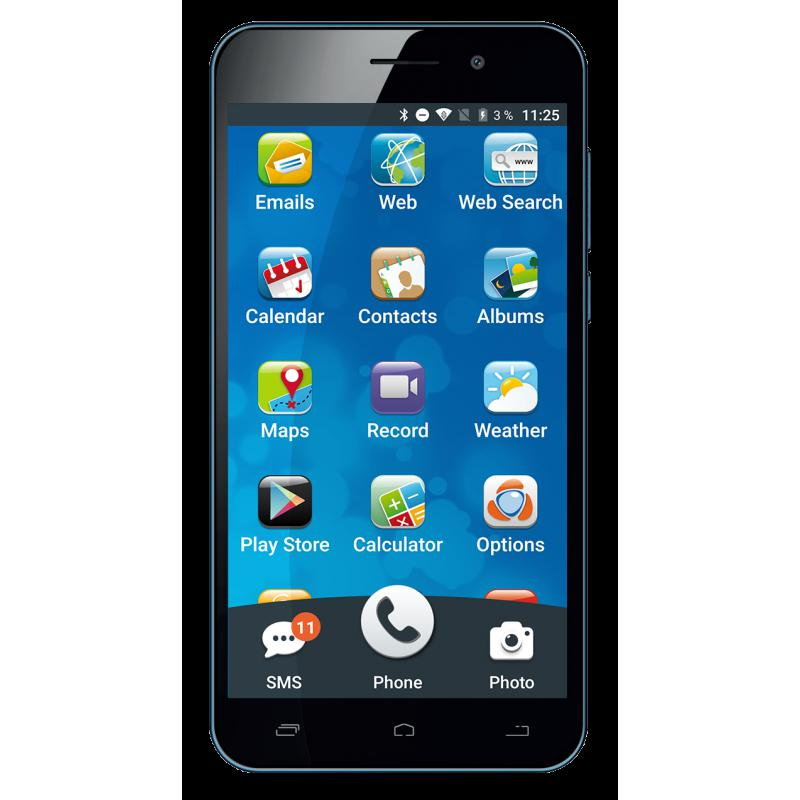Smartphone: (175, 24, 623, 776)
